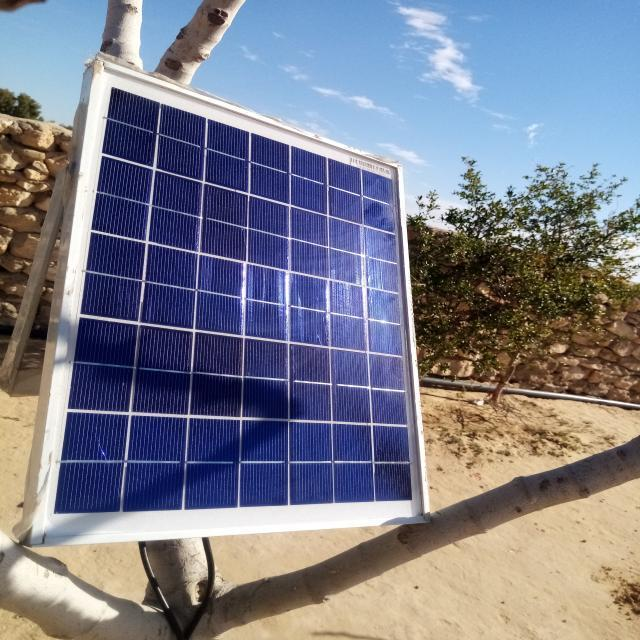Normal Solar Panel: (35, 63, 427, 545)
